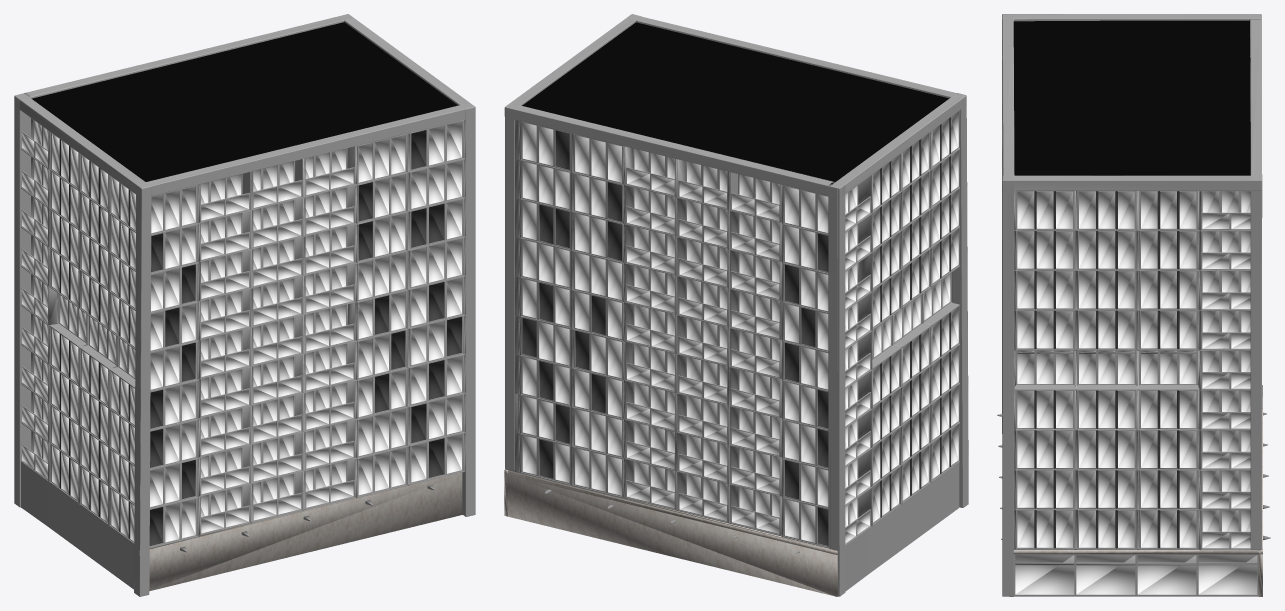
Rendered from user_city_bldg_3.glb.
3 renders of one model, left to right at view 1: azimuth 30°, elevation 25°; view 2: azimuth 150°, elevation 25°; view 3: azimuth 270°, elevation 25°, orthographic. The views are drawn at different scales.
Parts seen in each view (by area): view 1: user_city_bldg_3; view 2: user_city_bldg_3; view 3: user_city_bldg_3.
Boxes of the visible parts, box(x1,y1,x2,y2) form: user_city_bldg_3: box(14, 14, 475, 596); user_city_bldg_3: box(504, 14, 968, 596); user_city_bldg_3: box(997, 14, 1270, 596).
Bounding box in the file's own units: 25.89 × 30 × 17.85.
Materials: 6 (1 with a texture image).
